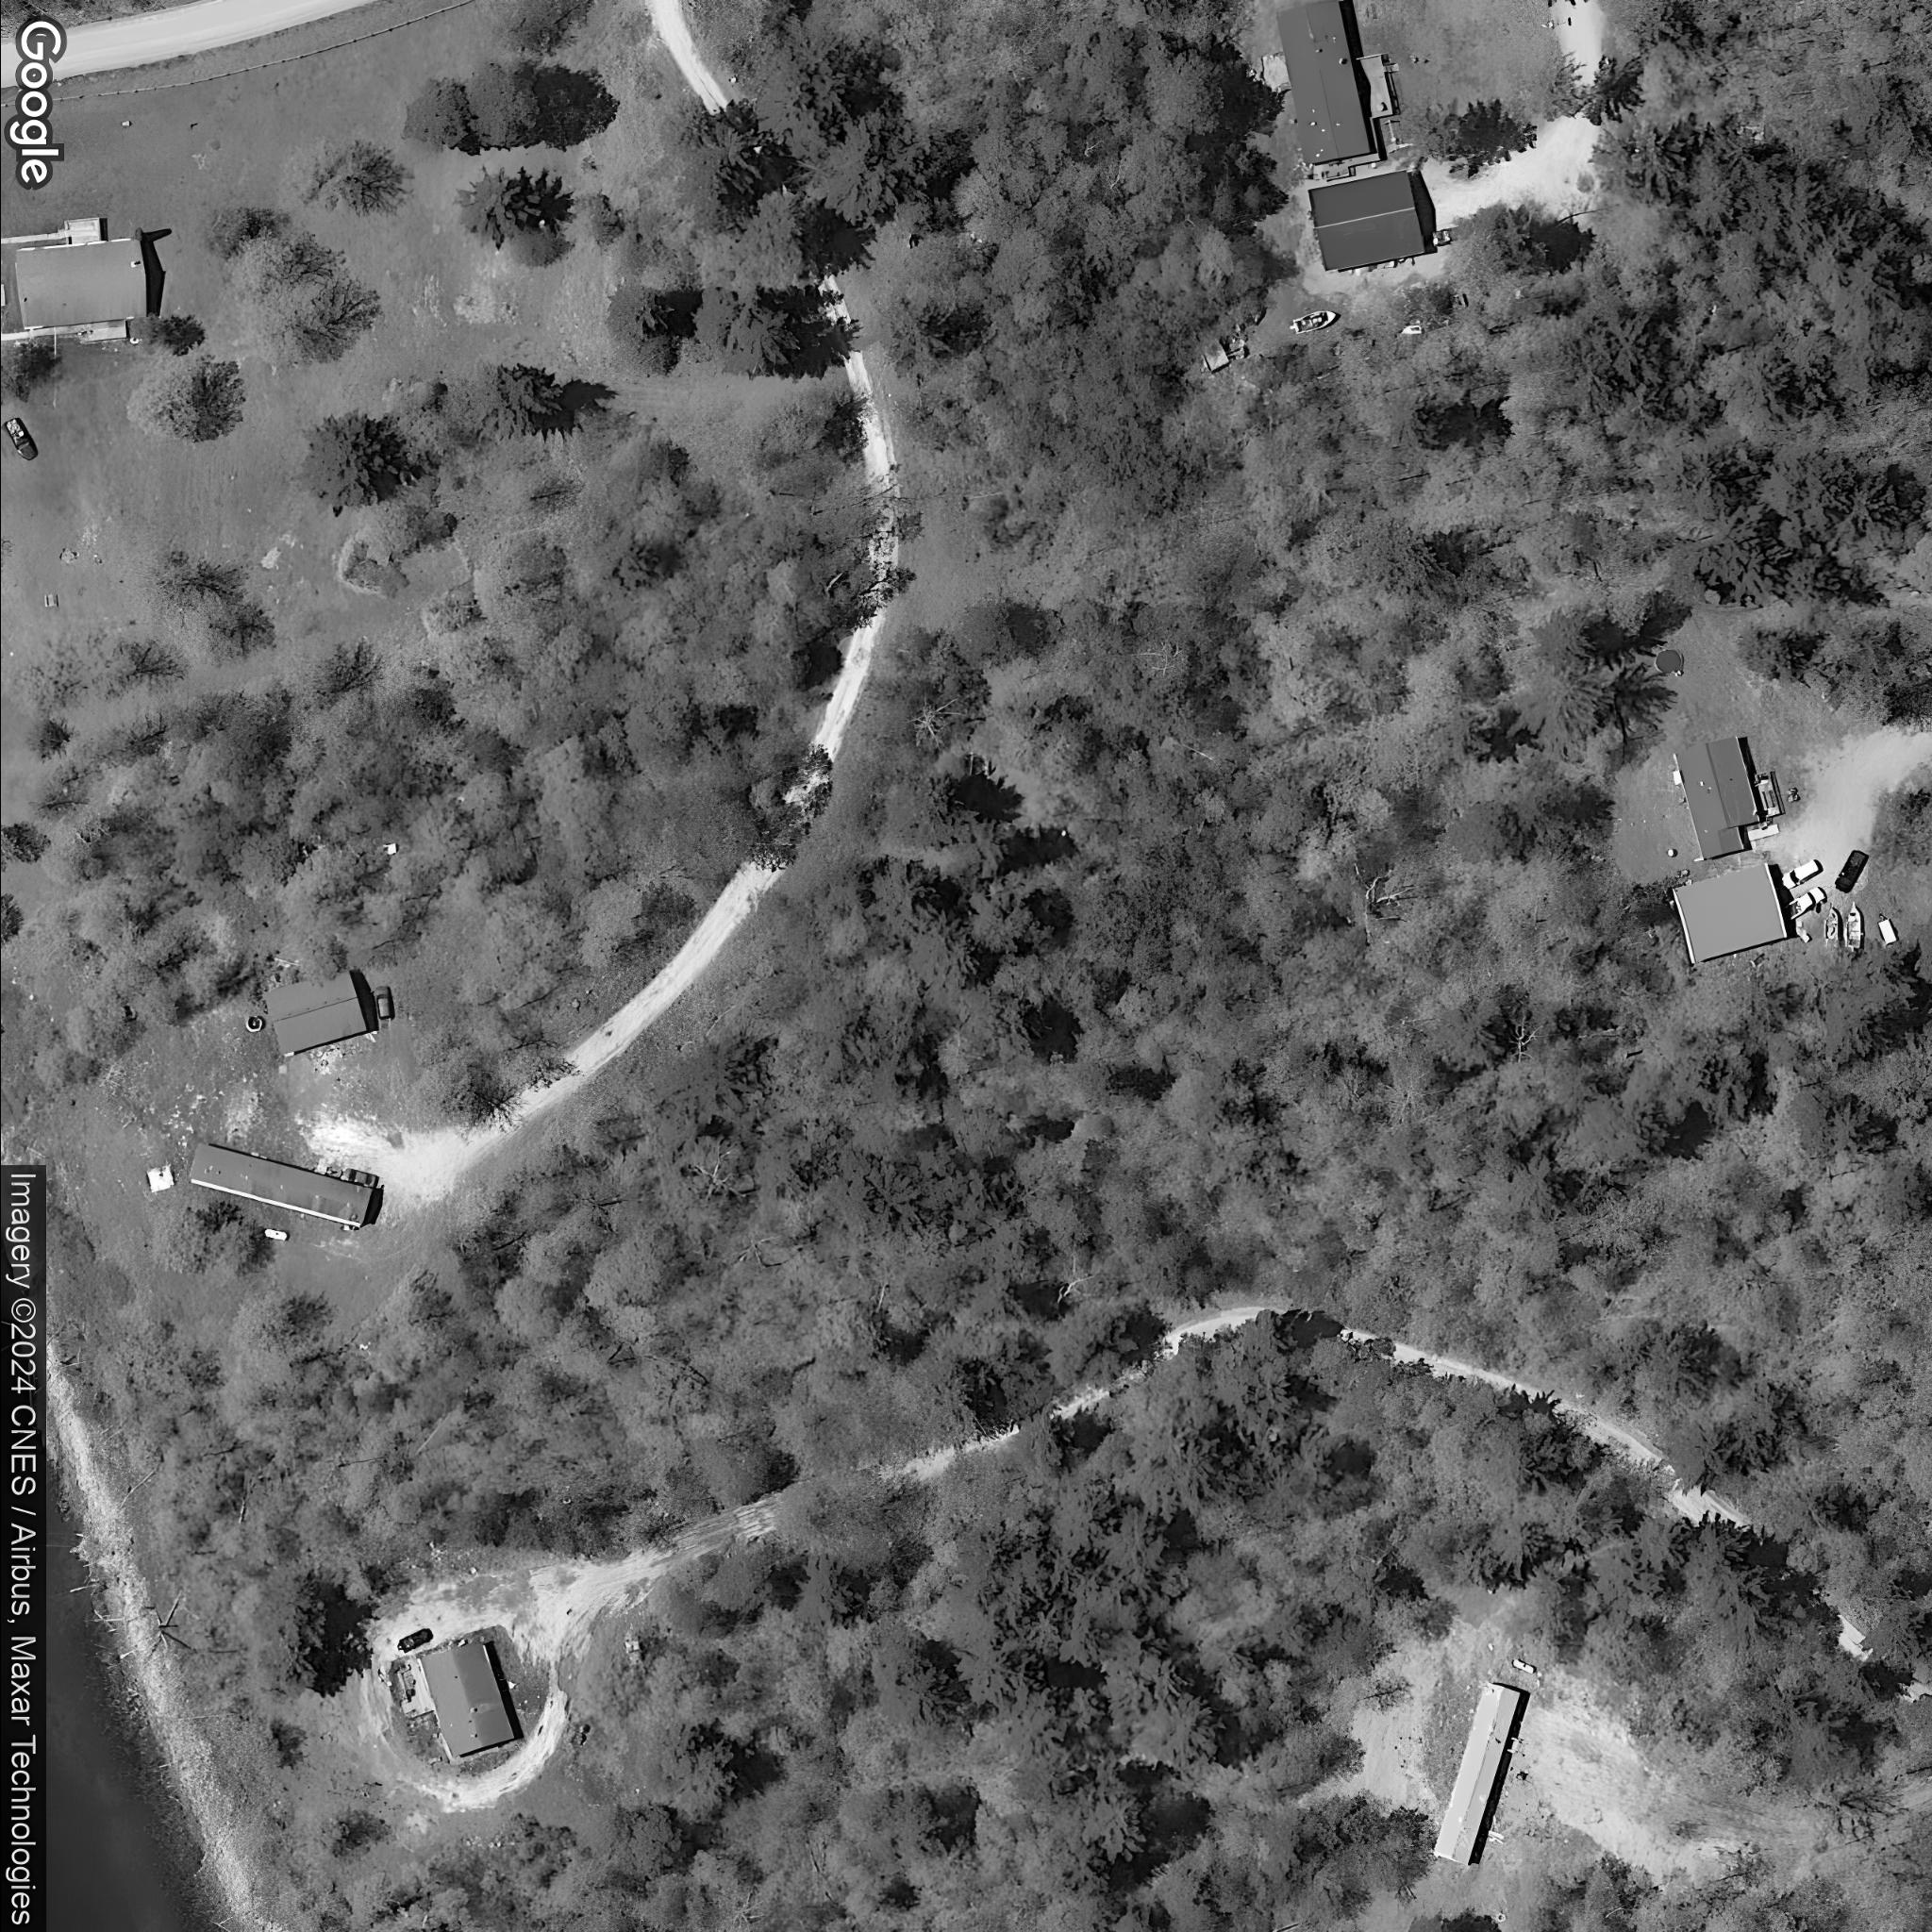Garage: (1306, 166, 1426, 274), (1668, 862, 1789, 968)
House: (1272, 0, 1373, 168), (11, 235, 147, 331), (416, 1638, 518, 1759), (1670, 734, 1759, 863), (260, 962, 368, 1058)
Propane: (260, 1221, 297, 1246), (1507, 1652, 1539, 1679)
Trailer: (1426, 1675, 1523, 1870), (184, 1141, 373, 1231)
